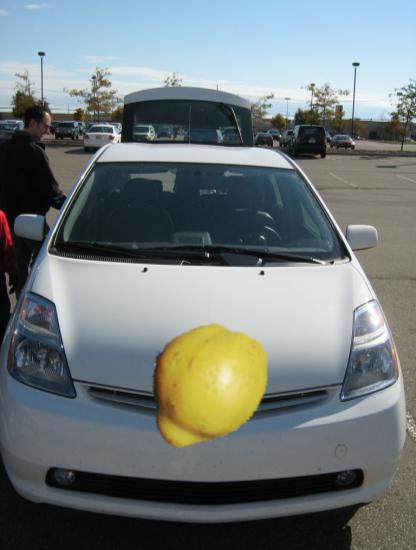Quince: (136, 319, 273, 456)
